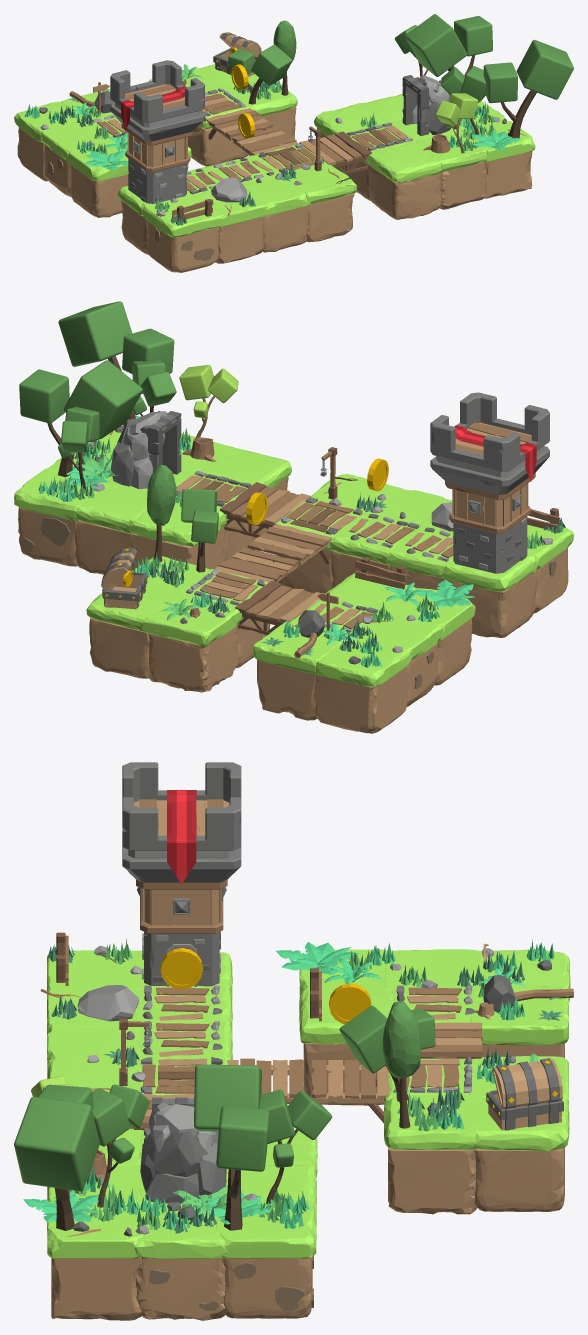
3 views of the same model, one above another, from view 1: azimuth 30°, elevation 25°; view 2: azimuth 150°, elevation 25°; view 3: azimuth 270°, elevation 25° (orthographic). The views are drawn at different scales.
Parts seen in each view (by area): view 1: TowerV1, TreeV3_004_1, TreeV3_004_2, Tile_Bot_Part_9, Tile_Bot_Part_23, DungeonEntrance, Tile_Top_Part_9, Tile_Bot_Part_12, Tile_Bot_Part_24, Tile_Bot_Part_18, TreeV3_004, Tile_Top_Part_23 (+53 smaller); view 2: TowerV1, TreeV3_004_2, TreeV3_004_1, Tile_Bot_Part_14, Tile_Bot_Part_17, DungeonEntrance, Tile_Bot_Part_3, Tile_Top_Part_17, Tile_Bot_Part_6, Tile_Bot_Part_13, Tile_Top_Part_14, Bridge_003 (+52 smaller); view 3: TowerV1, TreeV3_004_1, TreeV3_004_2, DungeonEntrance, Tile_Bot_Part_16, Tile_Bot_Part_6, Tile_Bot_Part_18, Tile_Bot_Part_20, Tile_Bot_Part_19, Tile_Top_Part_19, Tile_Top_Part_13, Tile_Top_Part_16 (+45 smaller).
Boxes of the visible parts, x1=… form: TowerV1: x1=110, y1=60, x2=204, y2=203; TreeV3_004_1: x1=483, y1=39, x2=573, y2=138; TreeV3_004_2: x1=405, y1=14, x2=492, y2=76; Tile_Bot_Part_9: x1=368, y1=164, x2=442, y2=219; Tile_Bot_Part_23: x1=147, y1=221, x2=219, y2=272; DungeonEntrance: x1=402, y1=75, x2=455, y2=135; Tile_Top_Part_9: x1=366, y1=142, x2=442, y2=182; Tile_Bot_Part_12: x1=70, y1=164, x2=128, y2=217; Tile_Bot_Part_24: x1=306, y1=193, x2=354, y2=242; Tile_Bot_Part_18: x1=485, y1=151, x2=532, y2=198; TreeV3_004: x1=228, y1=44, x2=292, y2=104; Tile_Top_Part_23: x1=142, y1=195, x2=221, y2=237; TowerV1: x1=430, y1=392, x2=549, y2=573; TreeV3_004_2: x1=19, y1=360, x2=142, y2=477; TreeV3_004_1: x1=58, y1=301, x2=174, y2=426; Tile_Bot_Part_14: x1=314, y1=667, x2=407, y2=733; Tile_Bot_Part_17: x1=148, y1=624, x2=238, y2=692; DungeonEntrance: x1=111, y1=411, x2=181, y2=489; Tile_Bot_Part_3: x1=444, y1=570, x2=536, y2=637; Tile_Top_Part_17: x1=141, y1=591, x2=242, y2=646; Tile_Bot_Part_6: x1=89, y1=618, x2=149, y2=678; Tile_Bot_Part_13: x1=257, y1=660, x2=317, y2=720; Tile_Top_Part_14: x1=315, y1=638, x2=412, y2=686; Bridge_003: x1=235, y1=580, x2=321, y2=634; TowerV1: x1=122, y1=762, x2=241, y2=986; TreeV3_004_1: x1=14, y1=1084, x2=99, y2=1230; TreeV3_004_2: x1=194, y1=1064, x2=269, y2=1230; DungeonEntrance: x1=140, y1=1097, x2=226, y2=1203; Tile_Bot_Part_16: x1=388, y1=1147, x2=478, y2=1214; Tile_Bot_Part_6: x1=474, y1=1148, x2=564, y2=1211; Tile_Bot_Part_18: x1=51, y1=1257, x2=141, y2=1320; Tile_Bot_Part_20: x1=136, y1=1257, x2=225, y2=1320; Tile_Bot_Part_19: x1=223, y1=1257, x2=312, y2=1318; Tile_Top_Part_19: x1=216, y1=1199, x2=316, y2=1258; Tile_Top_Part_13: x1=470, y1=985, x2=568, y2=1045; Tile_Top_Part_16: x1=384, y1=1093, x2=482, y2=1150.
Size of the model in its own units: 9.17 by 3.5 by 6.65.
Materials: 1 (1 with a texture image).
